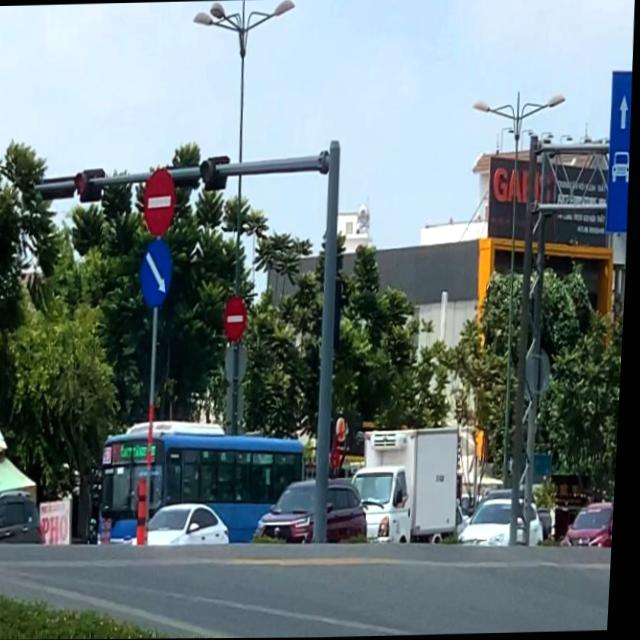Cam di nguoc chieu: (143, 165, 181, 239), (225, 292, 252, 346)
Vong chuong ngai vat sang phai: (140, 237, 179, 311)
